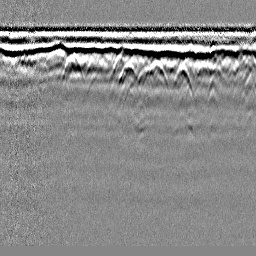cavity: (118, 59, 138, 84)
